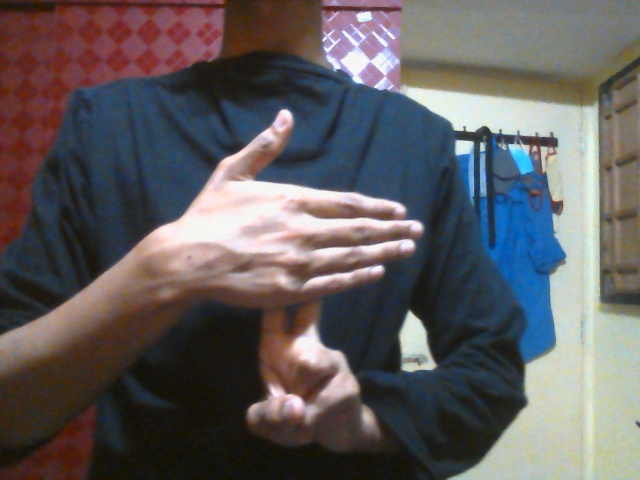N: (182, 108, 425, 452)
